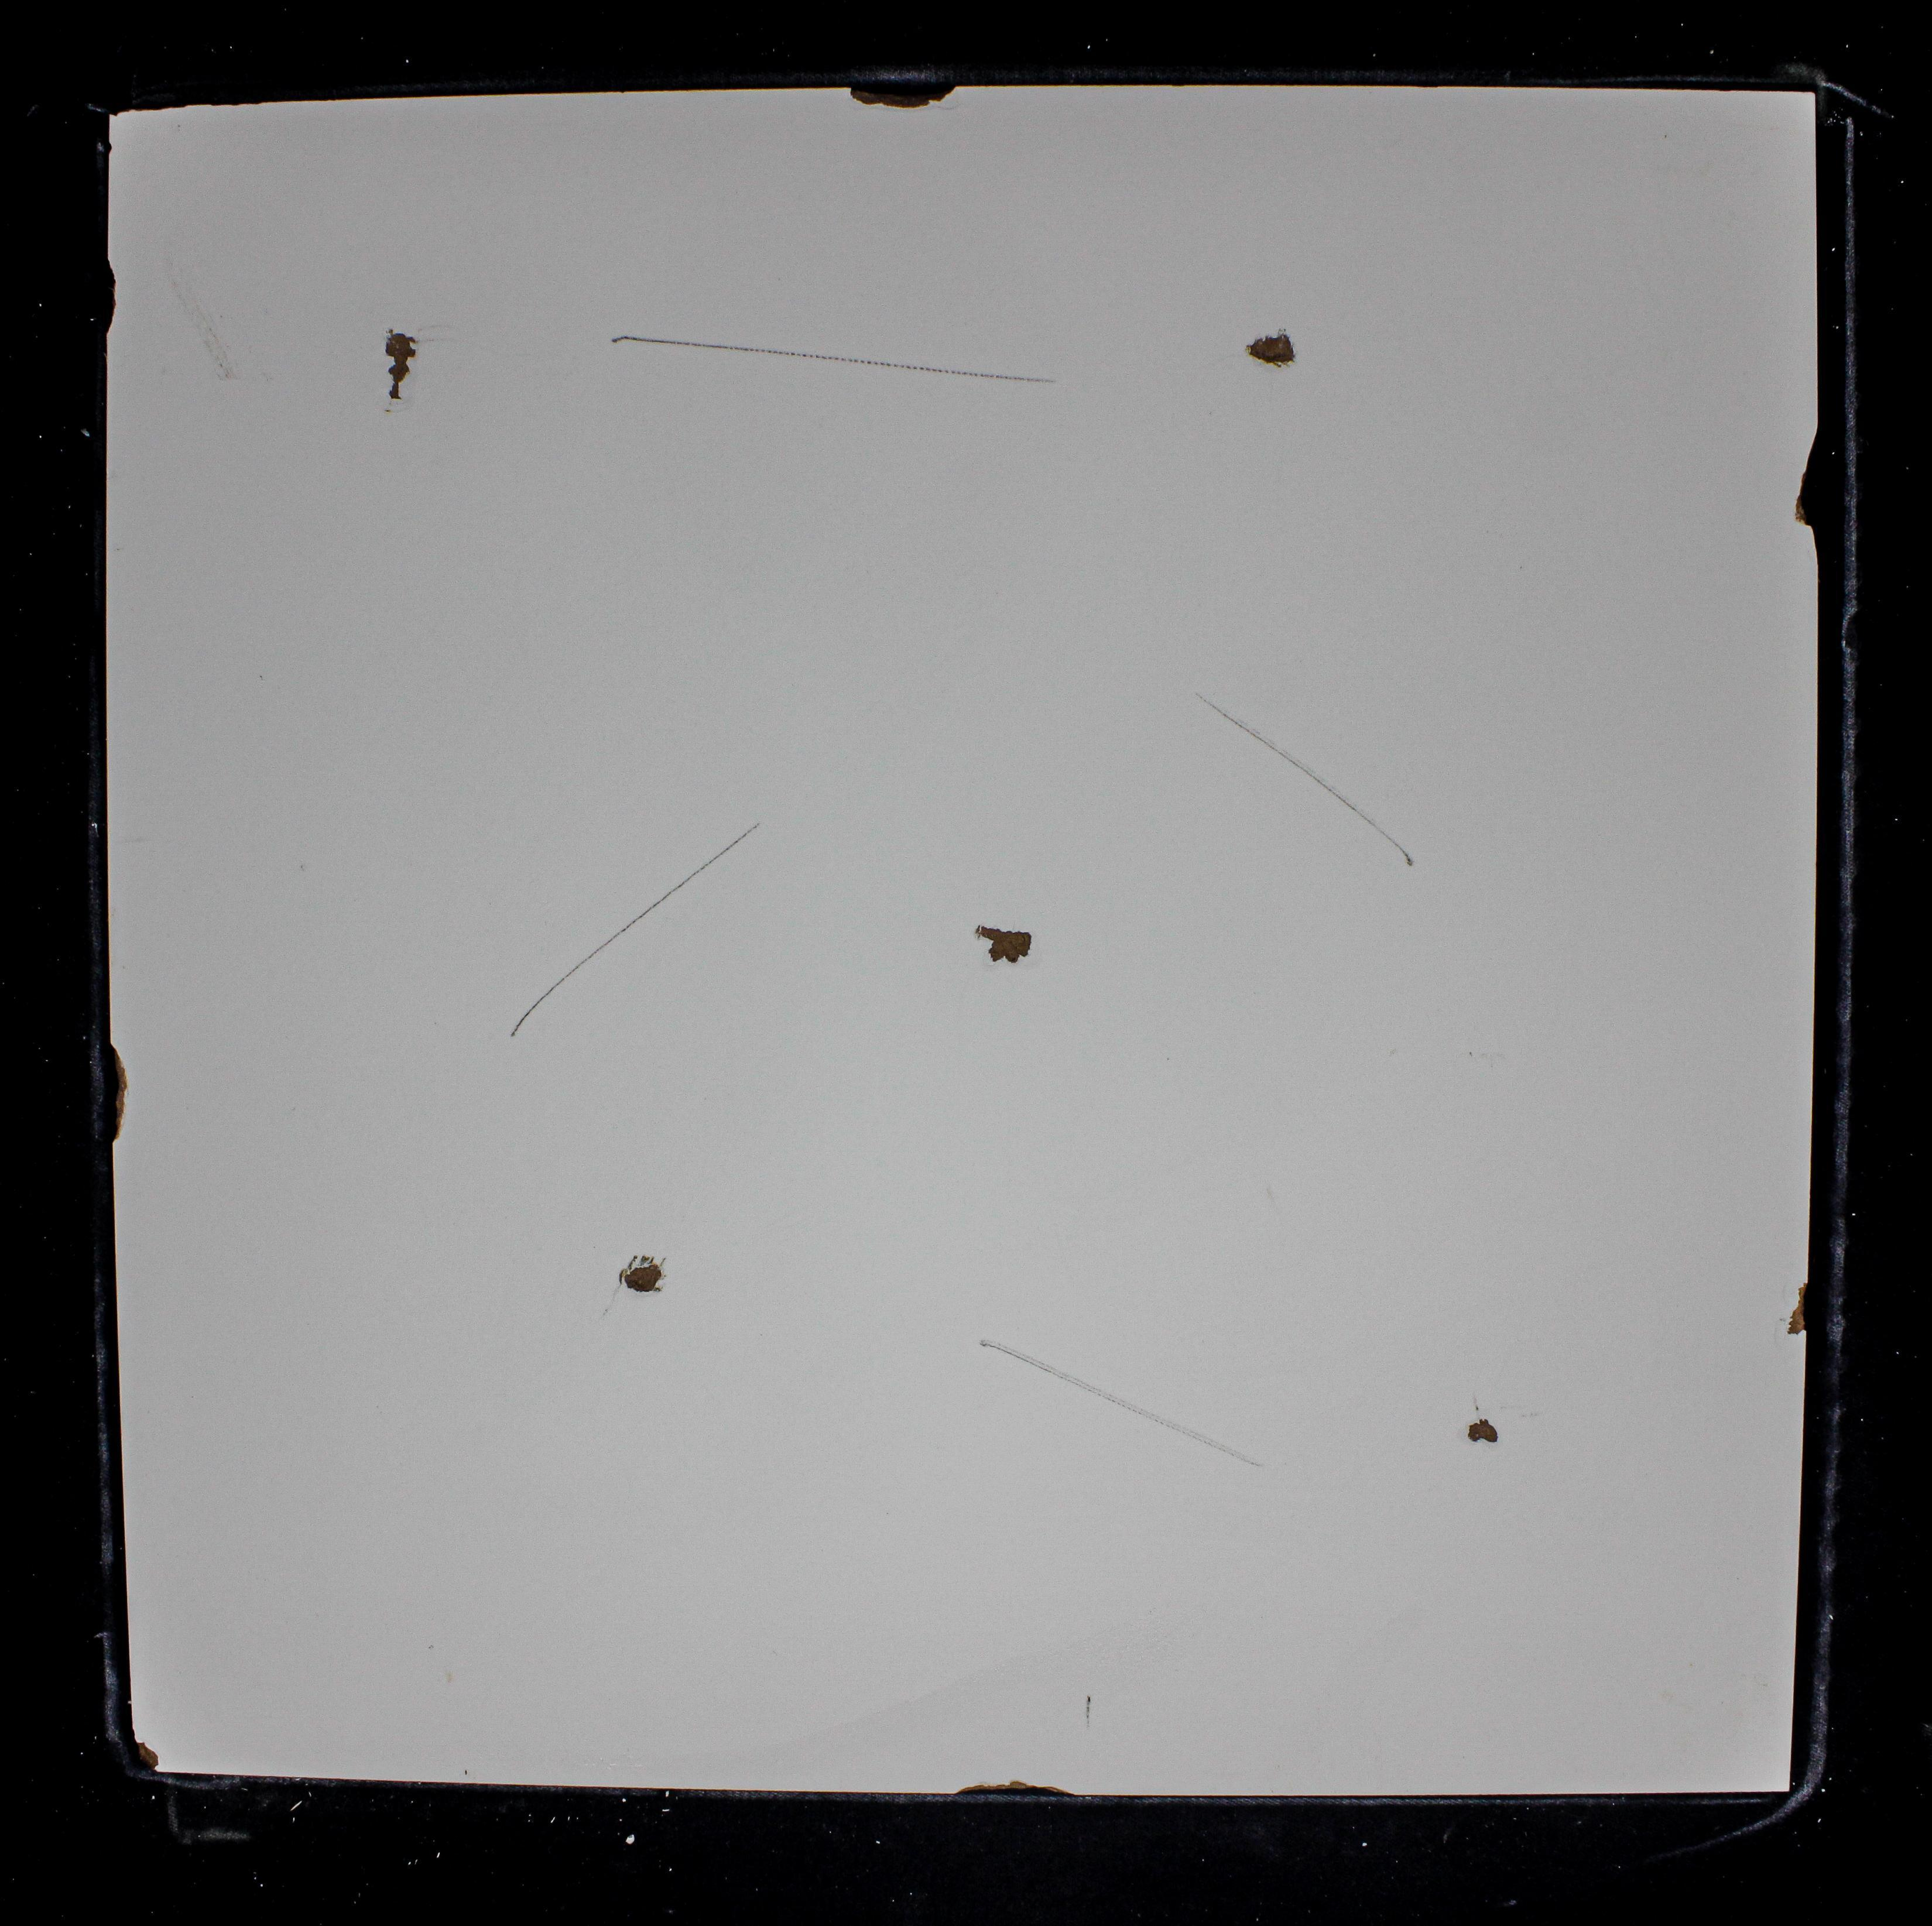edge-chipping: (849, 79, 956, 111), (1794, 429, 1819, 527), (106, 1041, 129, 1145), (949, 1780, 1073, 1795), (1786, 1280, 1810, 1335), (108, 102, 183, 116), (131, 1741, 161, 1774), (104, 258, 116, 335)
hole: (972, 921, 1036, 968), (381, 326, 422, 400), (1244, 330, 1299, 374), (618, 1252, 669, 1295), (1466, 1416, 1500, 1444)
line: (510, 822, 762, 1039), (1196, 691, 1419, 868), (979, 1339, 1263, 1467), (610, 333, 1055, 386), (1085, 1691, 1096, 1728)
